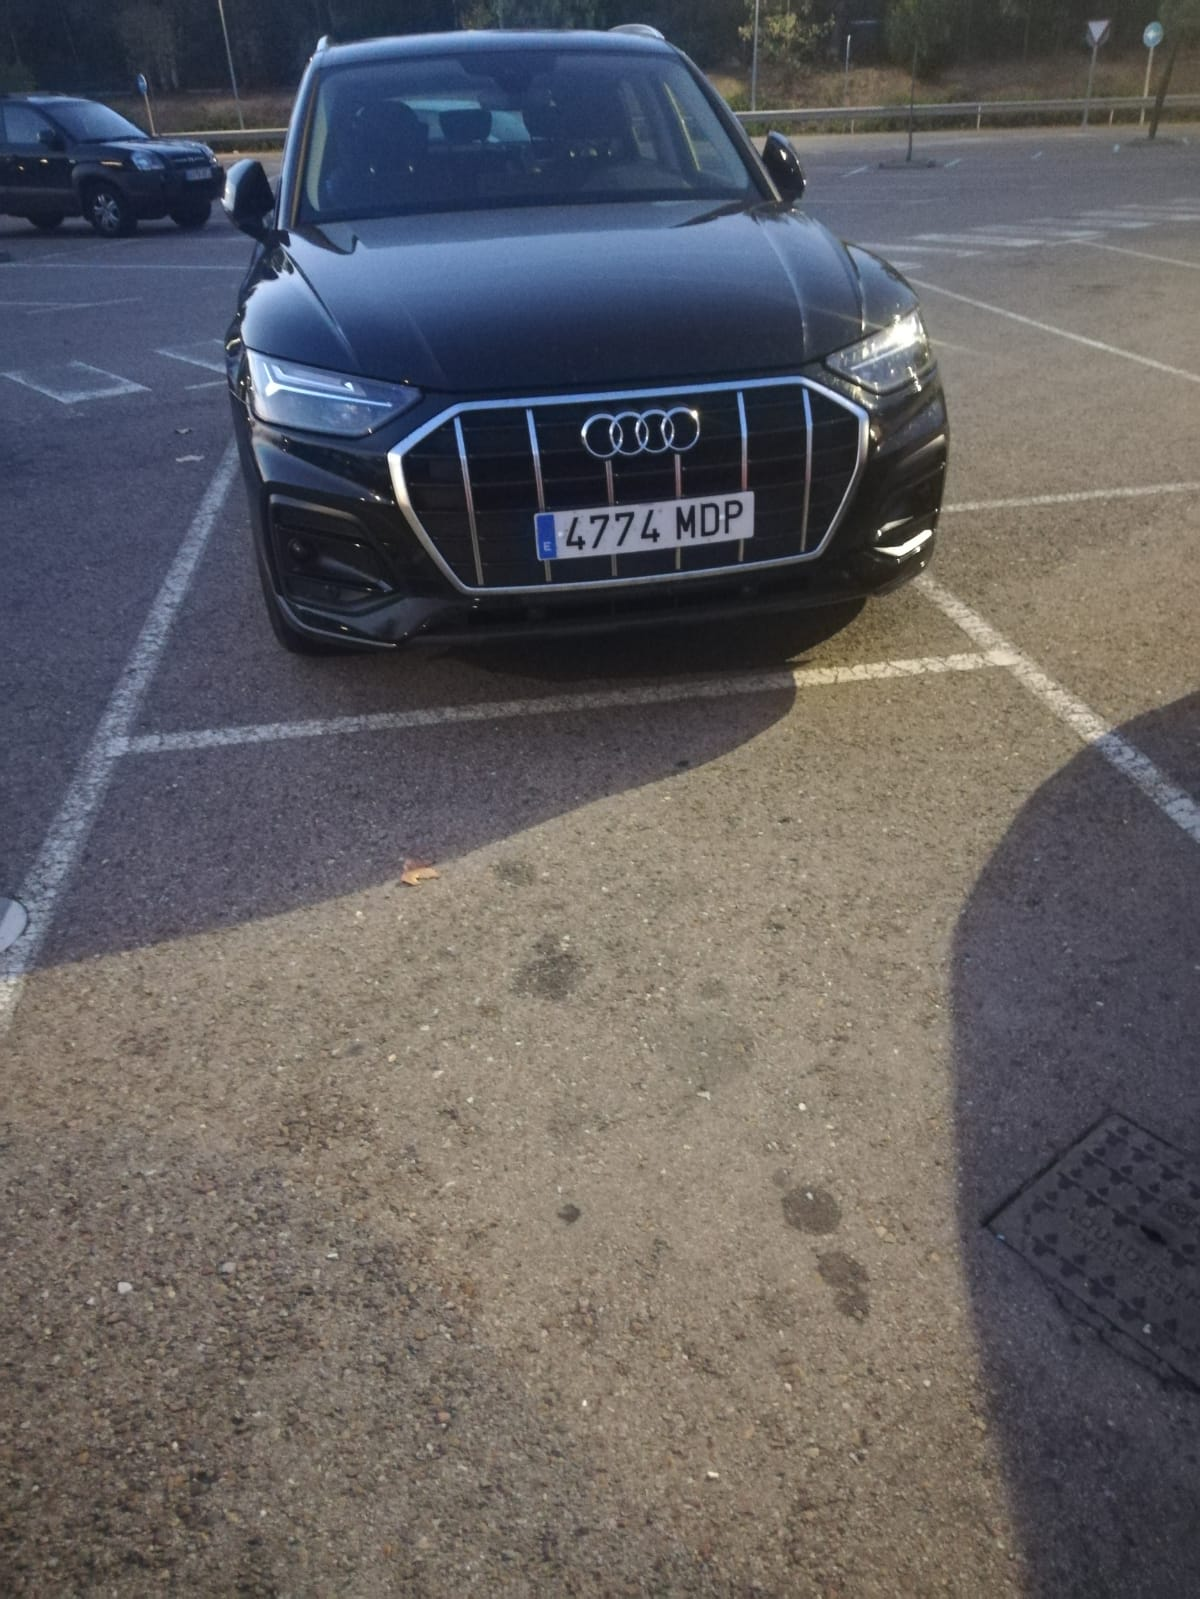Car: (226, 27, 946, 663)
Plate: (532, 515, 750, 564)
